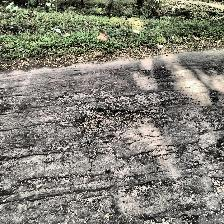pothole: (76, 107, 152, 136)
